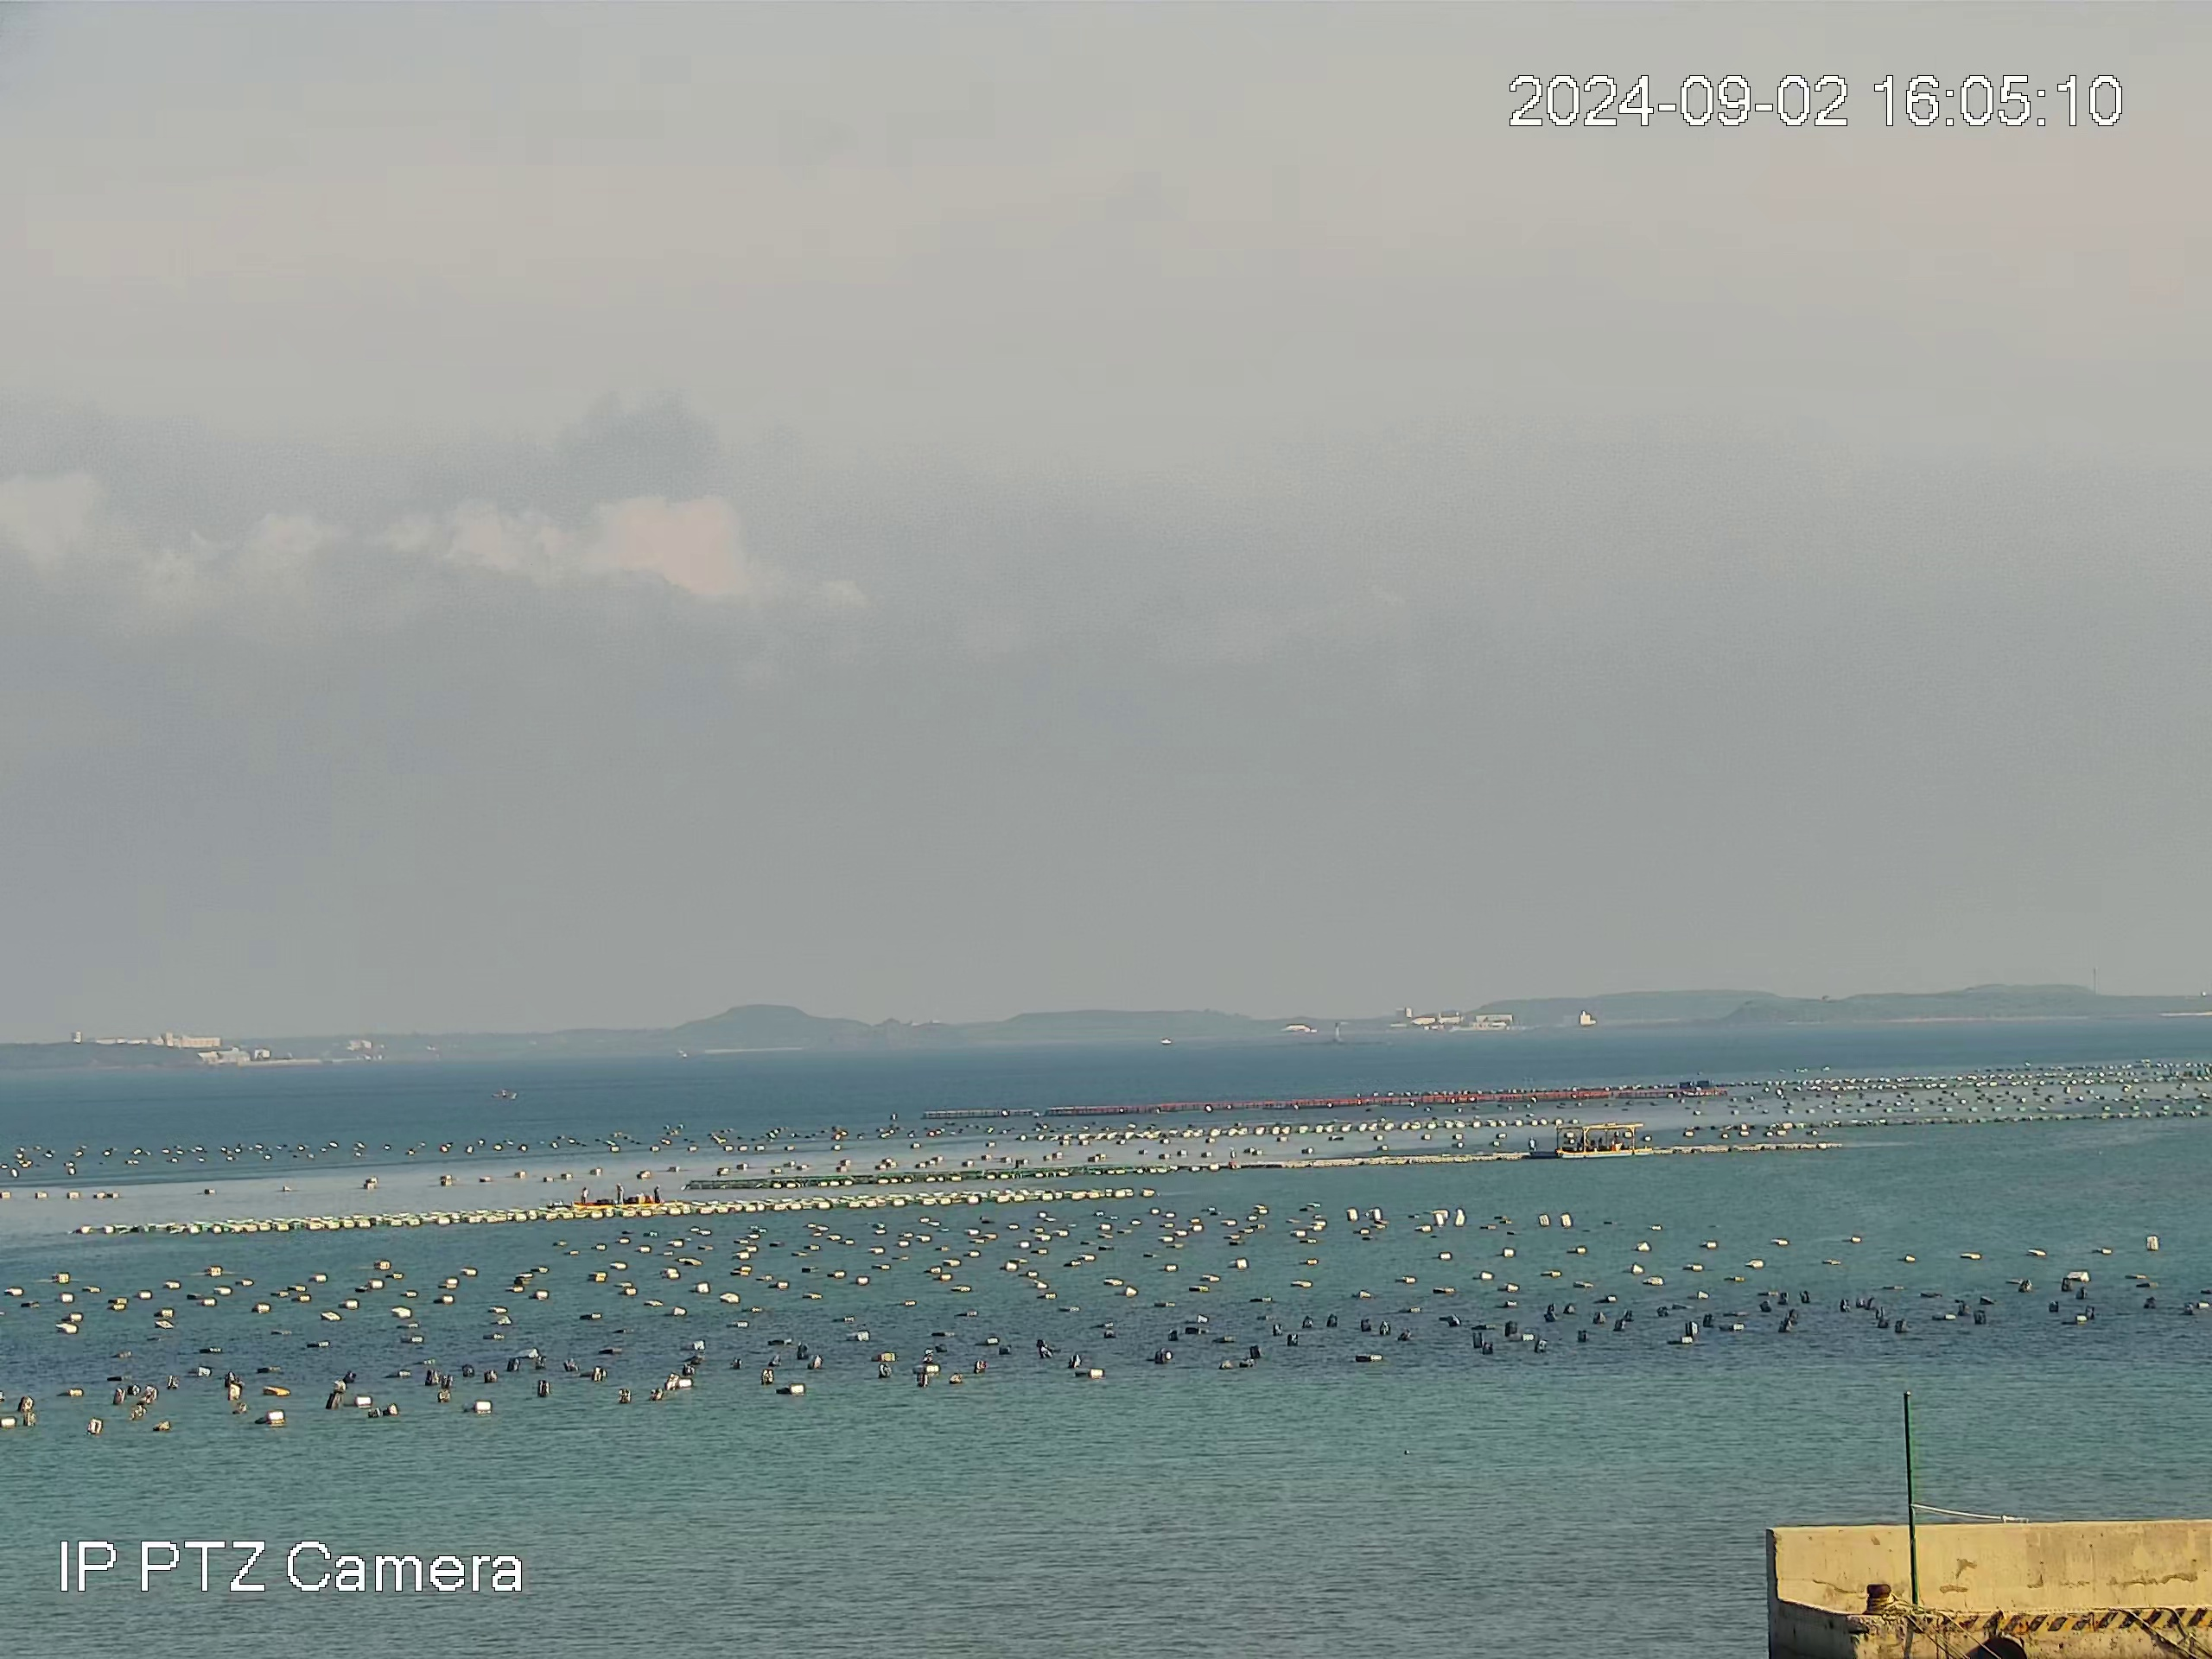boat: (1554, 1121, 1655, 1159), (570, 1182, 667, 1209), (489, 1087, 519, 1101)
